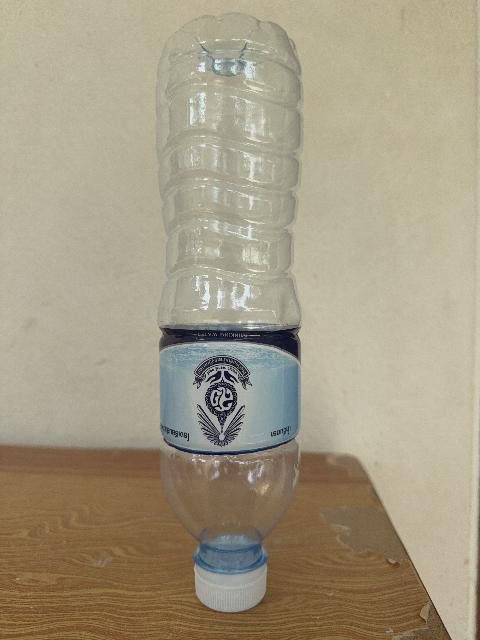bottle: (157, 14, 302, 611)
